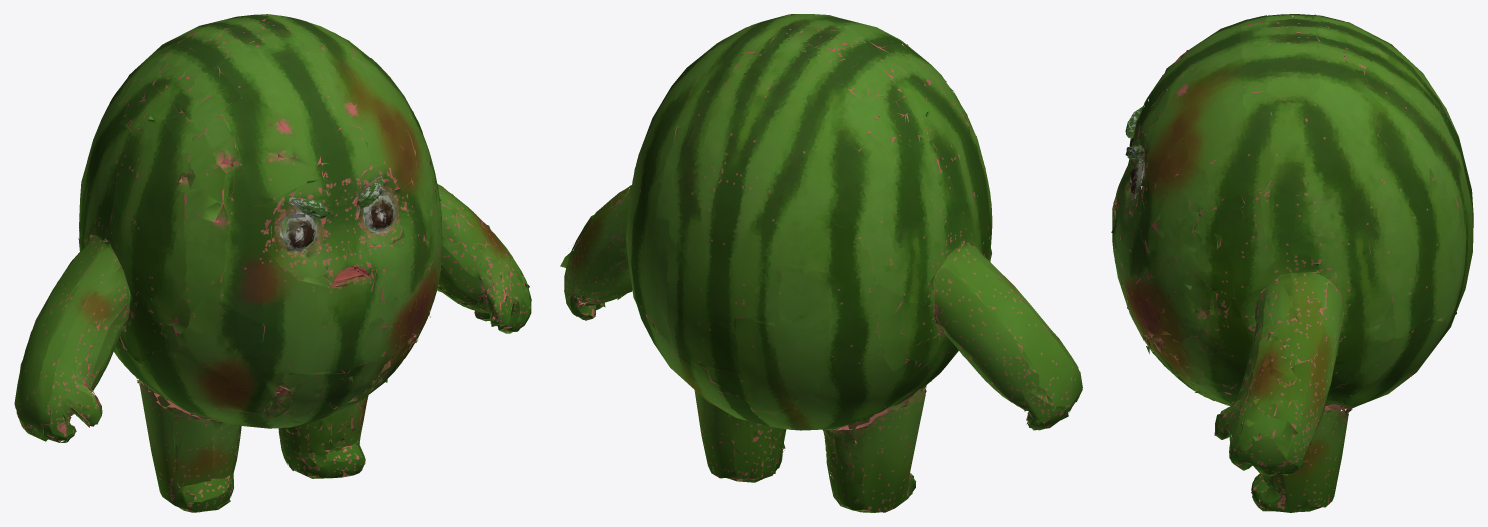
File: watermelon.glb
The picture shows the model from 3 angles, left to right: view 1: azimuth 30°, elevation 25°; view 2: azimuth 150°, elevation 25°; view 3: azimuth 270°, elevation 25°; orthographic projection. The views are drawn at different scales.
Parts seen in each view (by area): view 1: world; view 2: world; view 3: world.
Boxes of the visible parts, bbox=[...] form: world: bbox=[14, 14, 531, 512]; world: bbox=[560, 14, 1082, 512]; world: bbox=[1111, 14, 1473, 512].
Size of the model in its own units: 1.16 by 1 by 0.7429.
1 material, 1 textured.
